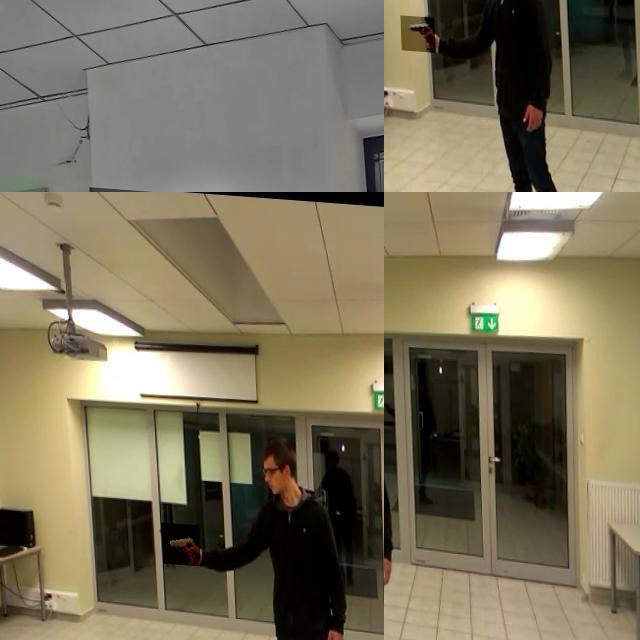gun-knife-thesis - v11 Yolov5 augmented: (159, 520, 198, 562), (398, 14, 434, 51), (384, 436, 404, 482)
